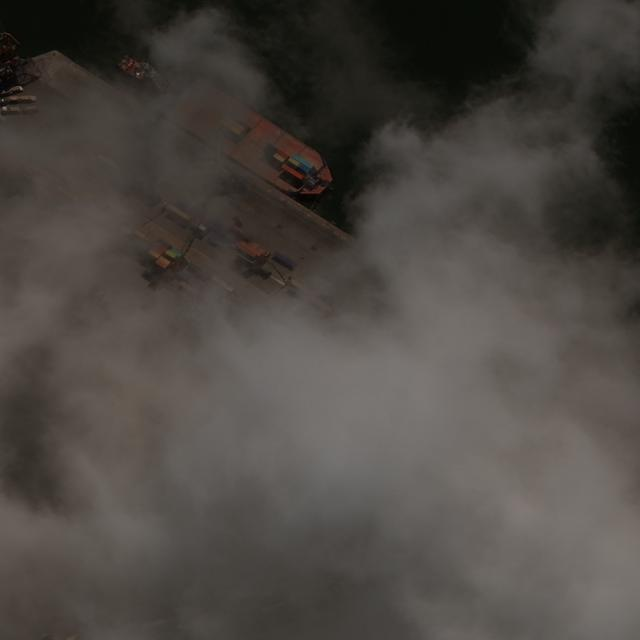Container Ship: (124, 49, 345, 213)
